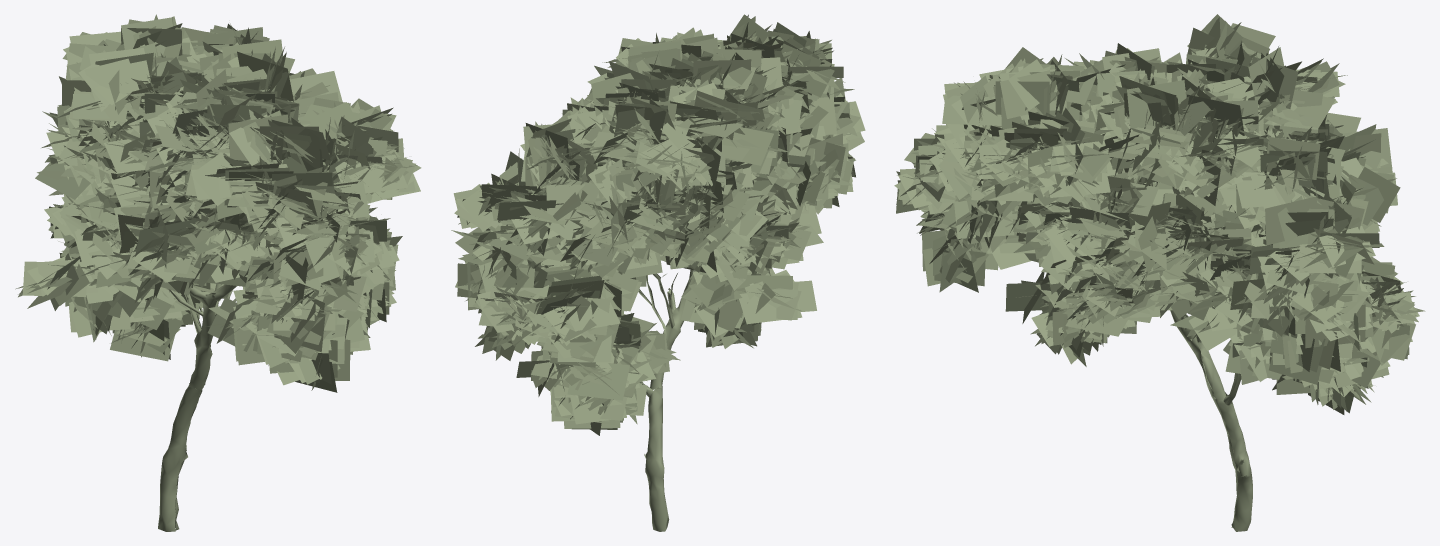
Rendered from tree-lod0.glb.
3 renders of one model, left to right at view 1: azimuth 30°, elevation 25°; view 2: azimuth 150°, elevation 25°; view 3: azimuth 270°, elevation 25°, orthographic. The views are drawn at different scales.
Parts seen in each view (by area): view 1: Photographic canopy, tree_small_02_LOD0; view 2: Photographic canopy, tree_small_02_LOD0; view 3: Photographic canopy, tree_small_02_LOD0.
Boxes of the visible parts, x1,y1,x2,y2 form: Photographic canopy: (15,14,421,392); tree_small_02_LOD0: (158,243,273,531); Photographic canopy: (451,14,865,435); tree_small_02_LOD0: (591,270,696,531); Photographic canopy: (894,14,1425,414); tree_small_02_LOD0: (1143,182,1258,531).
Bounding box in the file's own units: 3.45 × 4.68 × 4.78.
